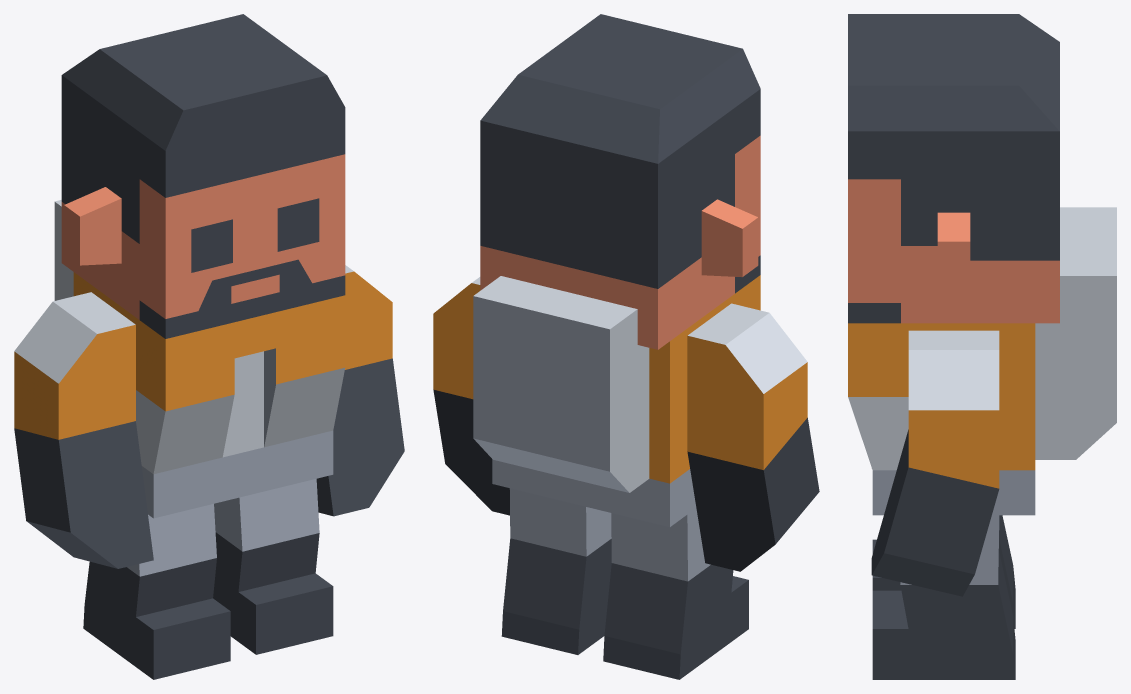
Rendered from astronautB.glb.
The picture shows the model from 3 angles, left to right: view 1: azimuth 30°, elevation 25°; view 2: azimuth 150°, elevation 25°; view 3: azimuth 270°, elevation 25°; orthographic projection. The views are drawn at different scales.
Visible parts, largest first — view 1: head, body, armRight, legRight, legLeft, armLeft; view 2: head, body, armRight, legRight, legLeft, armLeft; view 3: head, body, armLeft, legLeft, legRight.
Boxes of the visible parts, x1,y1,x2,y2 form: head: (61, 14, 345, 338); body: (54, 200, 345, 518); armRight: (14, 292, 153, 568); legRight: (83, 504, 230, 679); legLeft: (213, 478, 333, 654); armLeft: (316, 265, 404, 516); head: (480, 14, 760, 349); body: (473, 275, 760, 527); armRight: (687, 303, 819, 571); legRight: (603, 508, 748, 679); legLeft: (501, 488, 611, 654); armLeft: (433, 277, 509, 515); head: (848, 14, 1059, 323); body: (848, 207, 1116, 515); armLeft: (871, 330, 999, 596); legLeft: (872, 515, 1015, 679); legRight: (872, 515, 1015, 628).
Bounding box in the file's own units: 0.4832 × 0.7932 × 0.33.
